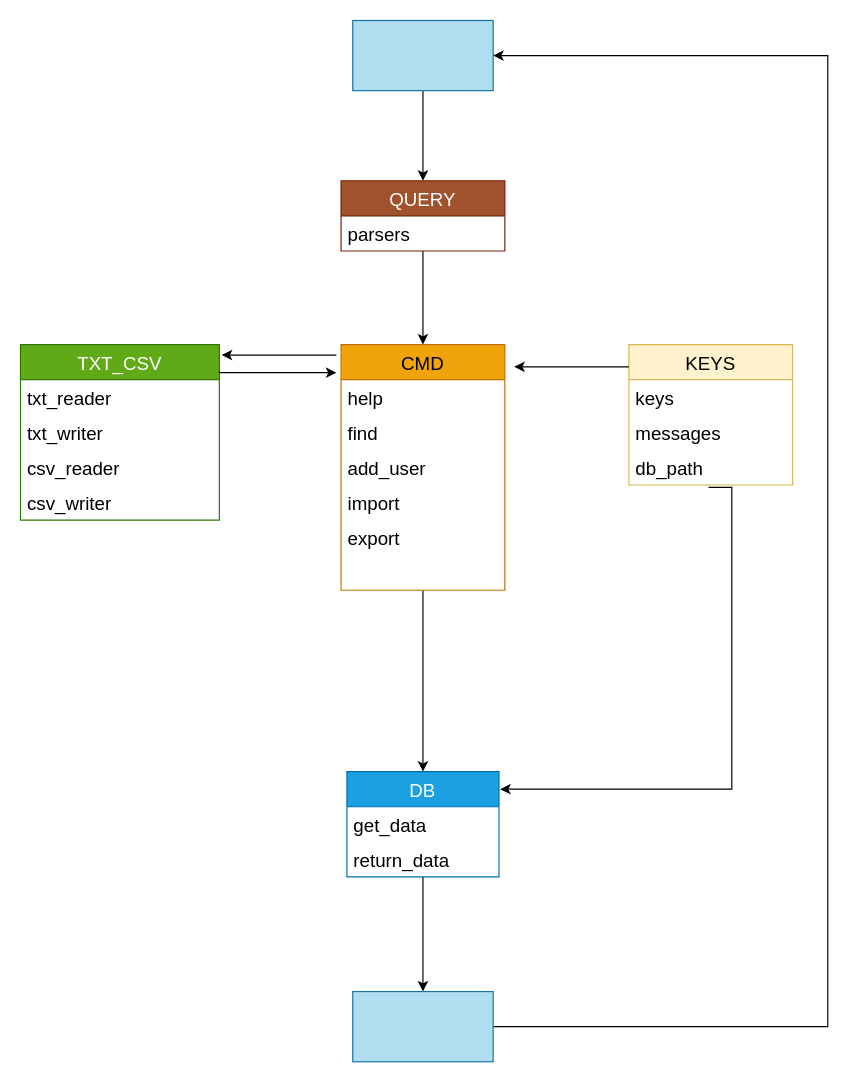
This 858x1082 diagram has some shape labels left out. The centre of each missing label's shape, as x and y in pixels:
"input" goes at pixel 422 55.
"output" goes at pixel 422 1026.
